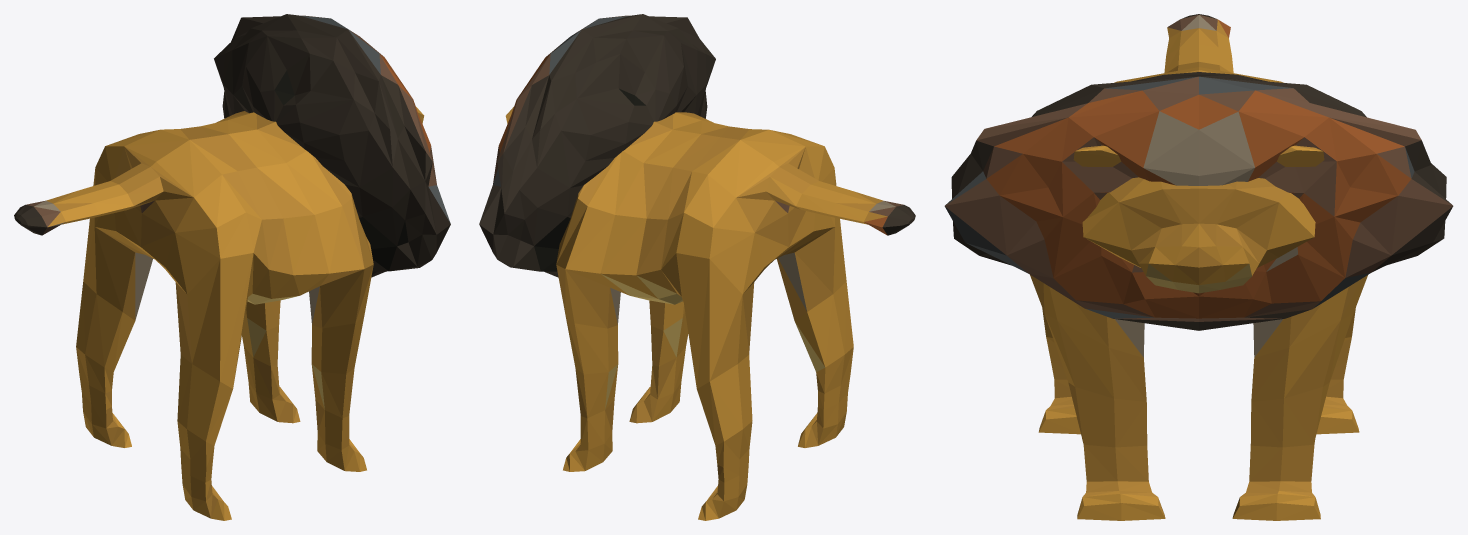
The model's file is lion.glb.
3 views of the same model, side by side, from view 1: azimuth 30°, elevation 25°; view 2: azimuth 150°, elevation 25°; view 3: azimuth 270°, elevation 25° (orthographic). The views are drawn at different scales.
Size of the model in its own units: 1 by 1 by 1.
